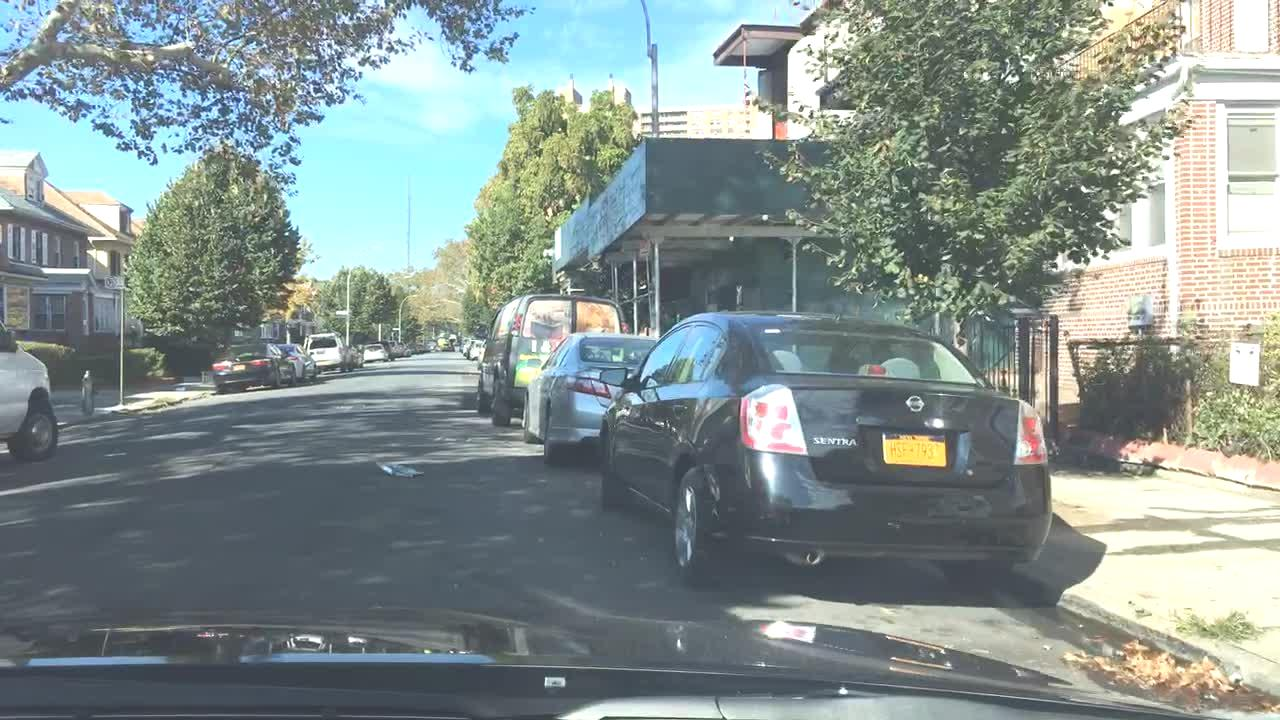Nissan: (904, 391, 926, 414)
